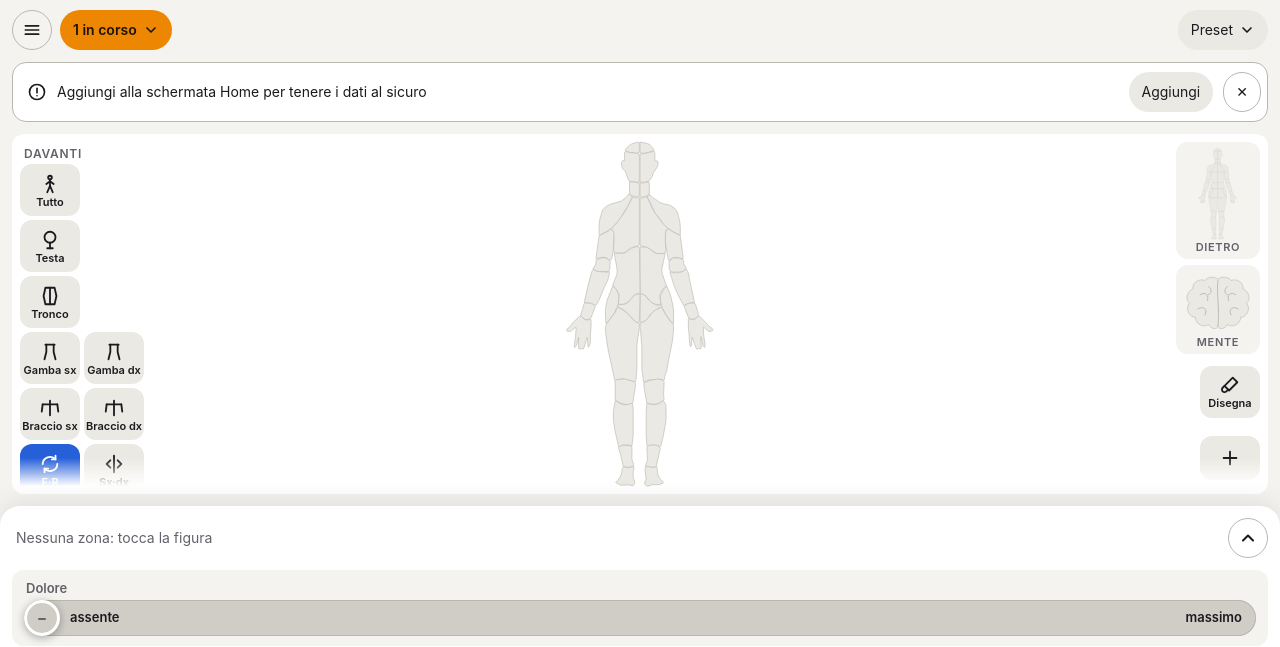
Test: A forgotten episode (#115) › asks whether it is still going, says since when nothing was read, and the dropdown line asks too
The image size is (1280, 647).
Click the button "1 in corso". click: (116, 30)
box: [60,10,172,50]
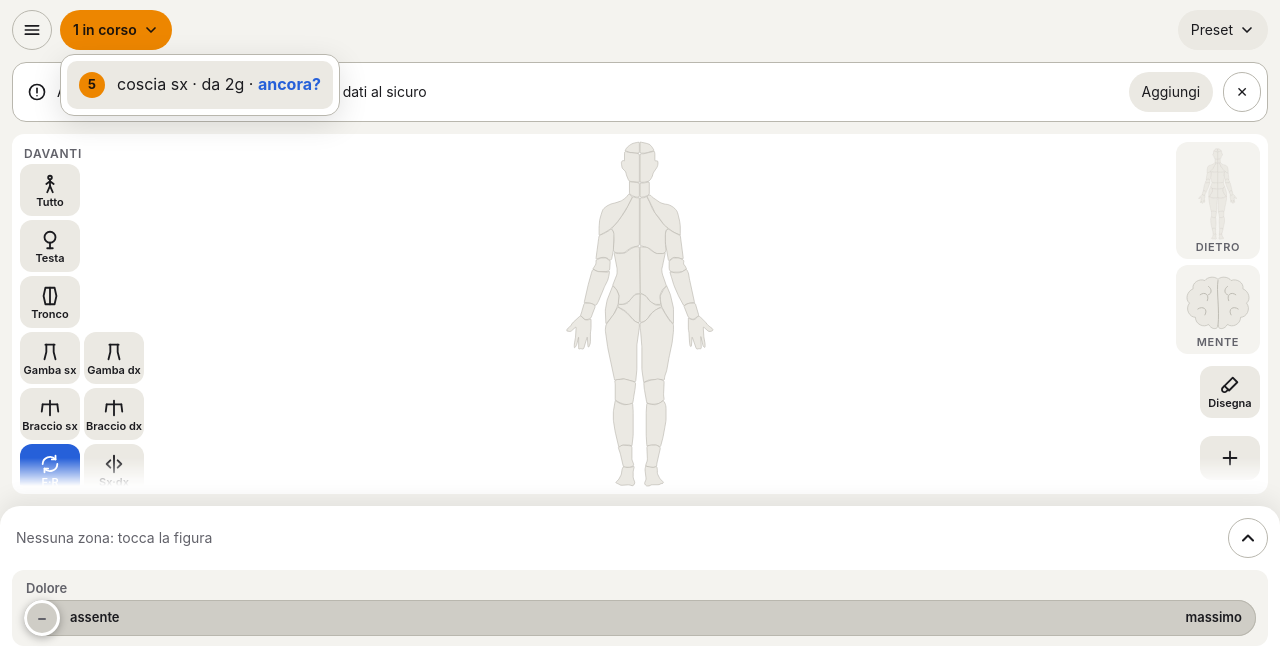
Click the menu item "5 coscia sx · da 2g · ancora?". click: (200, 85)
box: [67,61,333,109]
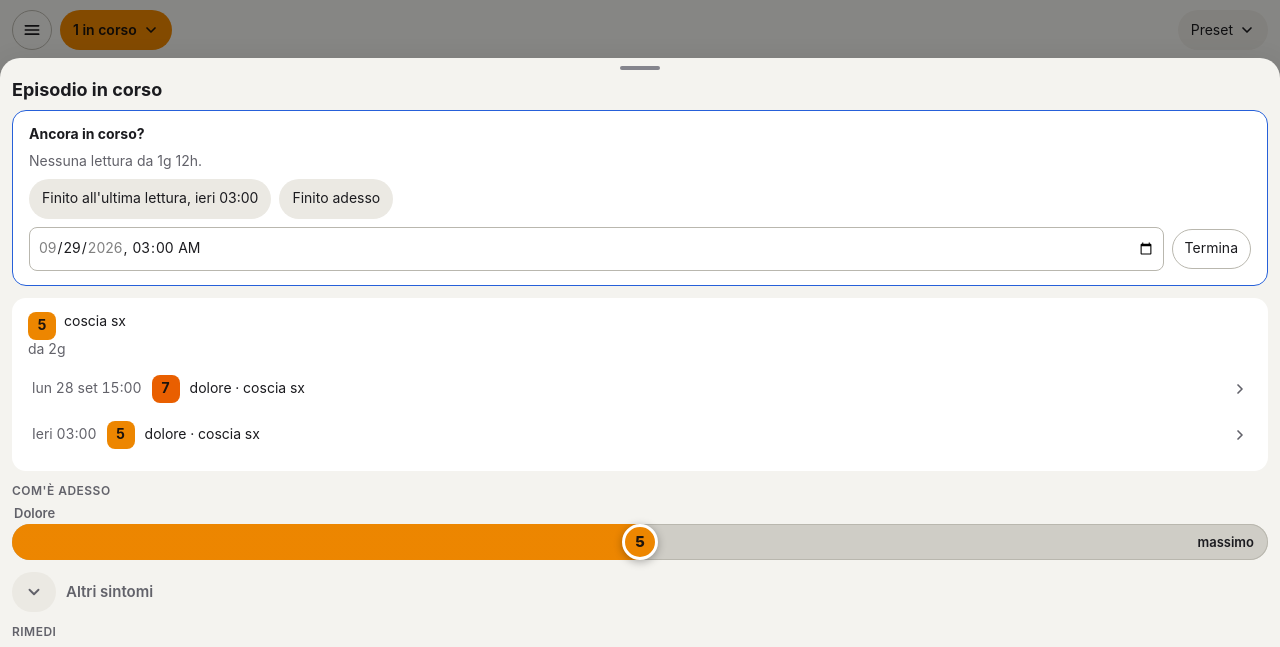
expect the element "Ancora in corso?" shows "Nessuna lettura da 1g 12h.": met, box [29,152,202,169]
expect the button "Finito all'ultima lettura, ieri 03:00" is shown: met, box [29,179,271,219]
expect the button "Finito adesso" is shown: met, box [279,179,393,219]
